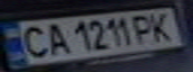1: (69, 18, 90, 53), (112, 15, 133, 47), (106, 16, 127, 47)
2: (87, 17, 109, 52)
A: (39, 20, 69, 56)
C: (12, 22, 51, 60)
K: (145, 9, 181, 43)
P: (127, 11, 160, 45)
